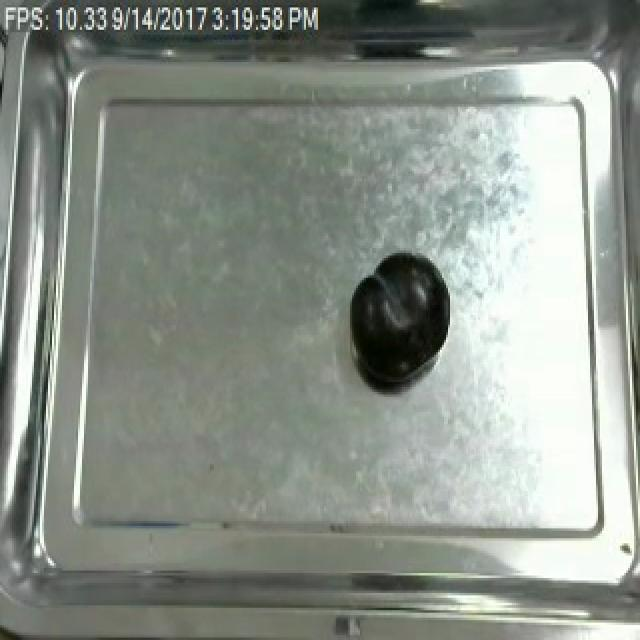Fruit: (346, 248, 454, 390)
